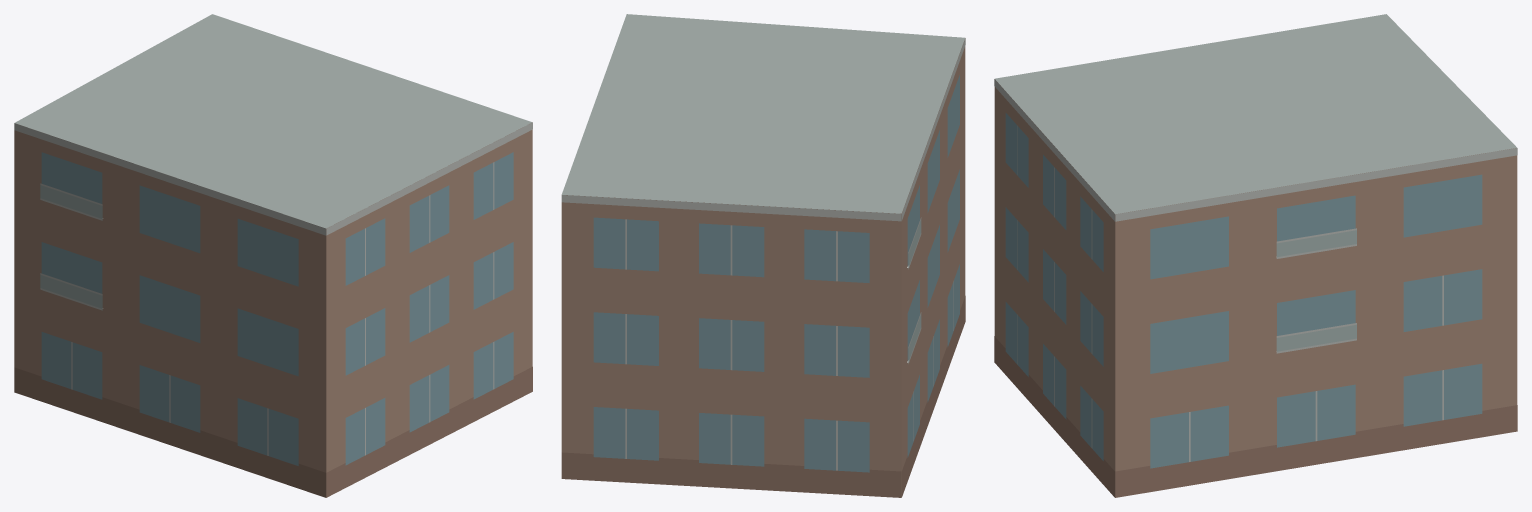
Rendered from survey-upis-32840924.glb.
3 renders of one model, left to right at view 1: azimuth 30°, elevation 25°; view 2: azimuth 150°, elevation 25°; view 3: azimuth 270°, elevation 25°, orthographic. The views are drawn at different scales.
Parts seen in each view (by area): view 1: survey-upis-32840924.tmp; view 2: survey-upis-32840924.tmp; view 3: survey-upis-32840924.tmp.
Boxes of the visible parts, box(x1,y1,x2,y2) form: survey-upis-32840924.tmp: box(14, 14, 532, 497); survey-upis-32840924.tmp: box(561, 14, 965, 497); survey-upis-32840924.tmp: box(994, 14, 1517, 497).
Bounding box in the file's own units: 13.86 × 9.15 × 15.3.
